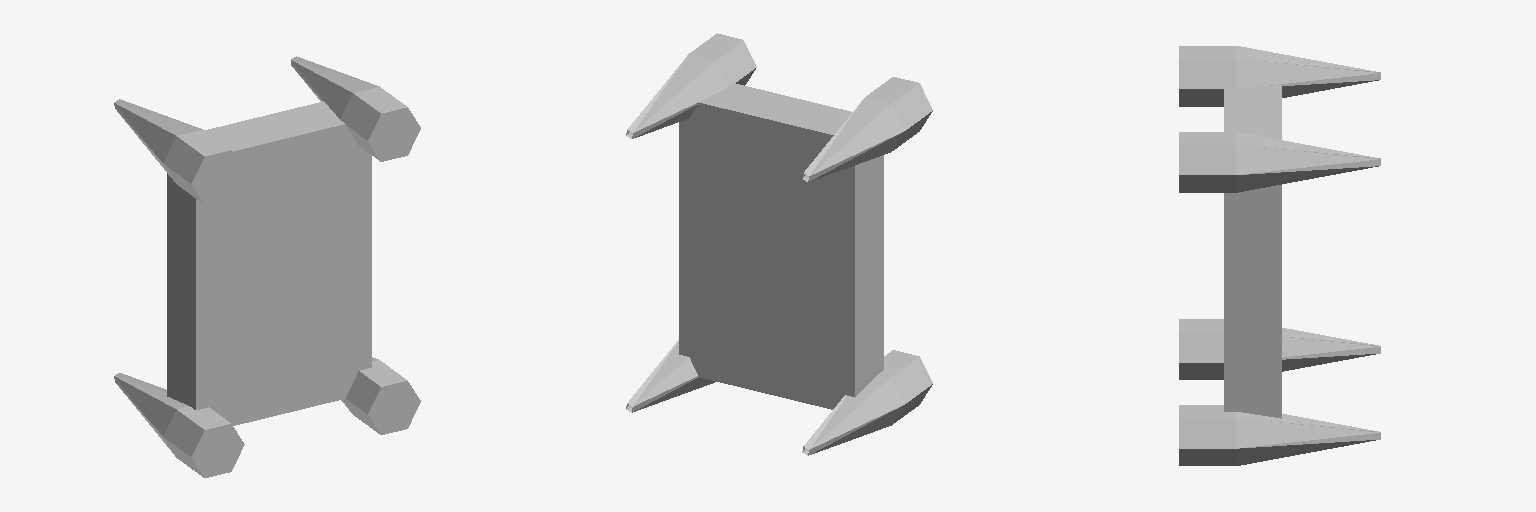
File: ss107_bound.obj
3 views of the same model, side by side, from view 1: azimuth 30°, elevation 25°; view 2: azimuth 150°, elevation 25°; view 3: azimuth 270°, elevation 25° (orthographic).
Parts seen in each view (by area): view 1: frm-bound01, frm-bound02; view 2: frm-bound01, frm-bound02; view 3: frm-bound02, frm-bound01.
Part boxes in pixels (x1,y1,x2,y2): frm-bound01: (167, 101, 371, 425); frm-bound02: (114, 56, 420, 477); frm-bound01: (679, 83, 883, 409); frm-bound02: (626, 33, 932, 455); frm-bound02: (1179, 46, 1380, 465); frm-bound01: (1224, 85, 1281, 418).
Bounding box in the file's own units: 63.81 × 85.4 × 48.57.